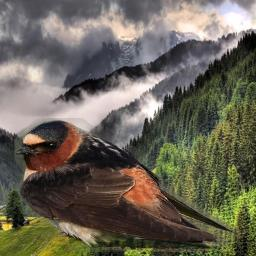Swallow: (14, 118, 240, 252)
